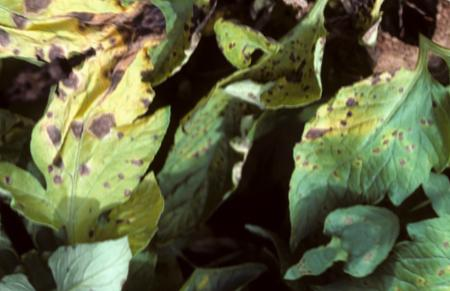Tomato Septoria leaf spot: (0, 26, 226, 264), (235, 39, 450, 255), (191, 0, 379, 145)
